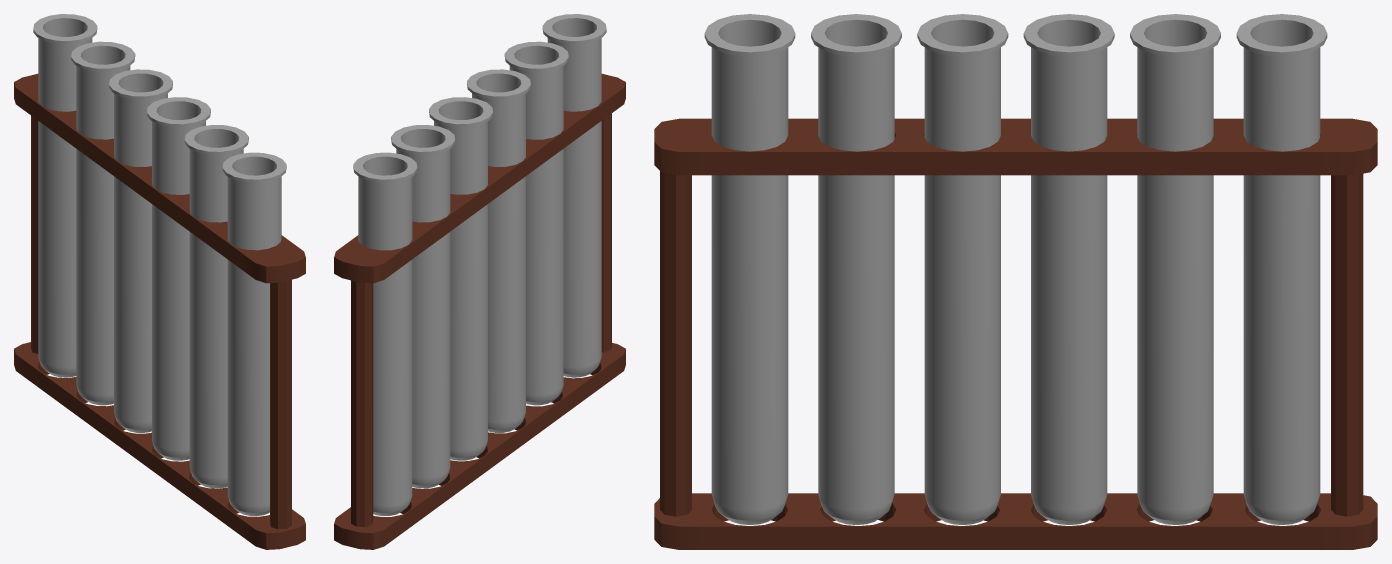
File: TestTubeRack01.fbx
3 views of the same model, side by side, from view 1: azimuth 30°, elevation 25°; view 2: azimuth 150°, elevation 25°; view 3: azimuth 270°, elevation 25° (orthographic). The views are drawn at different scales.
Visible parts, largest first — view 1: TestTubeRack01; view 2: TestTubeRack01; view 3: TestTubeRack01.
Boxes of the visible parts, x1=… form: TestTubeRack01: x1=14, y1=14, x2=305, y2=549; TestTubeRack01: x1=334, y1=14, x2=625, y2=549; TestTubeRack01: x1=654, y1=14, x2=1377, y2=549.
Size of the model in its own units: 1.16 by 7.03 by 9.21.
